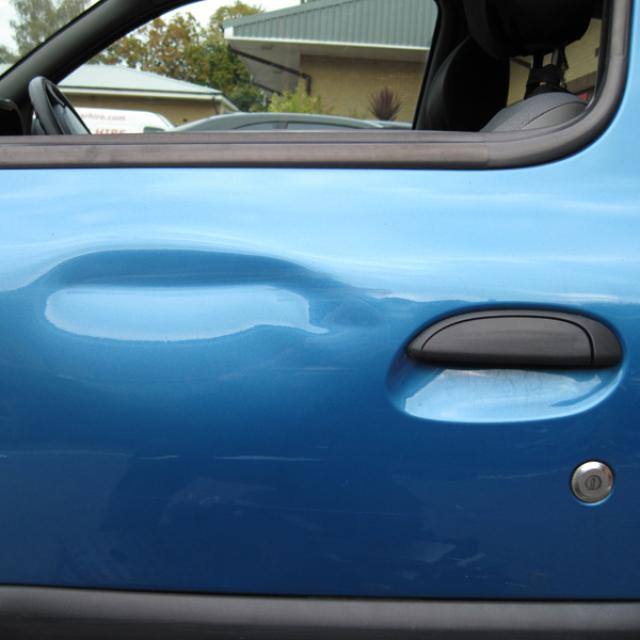dent: (33, 240, 383, 397)
scratch: (0, 450, 186, 465), (207, 452, 328, 467)
